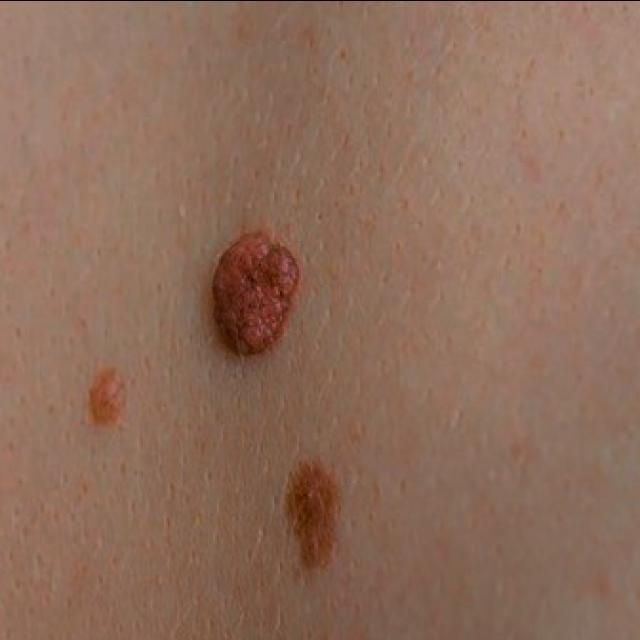wart: (205, 224, 294, 366)
